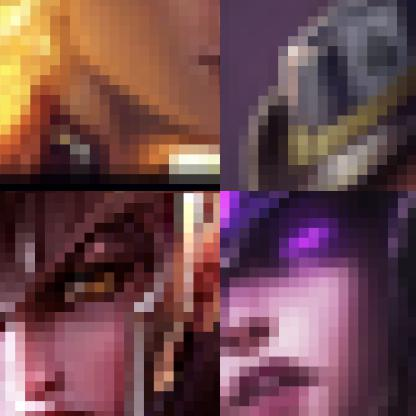Quinn: (0, 191, 219, 415)
Rell: (0, 0, 219, 190)
Syndra: (220, 191, 415, 415)
Twisted Fate: (220, 0, 415, 190)
